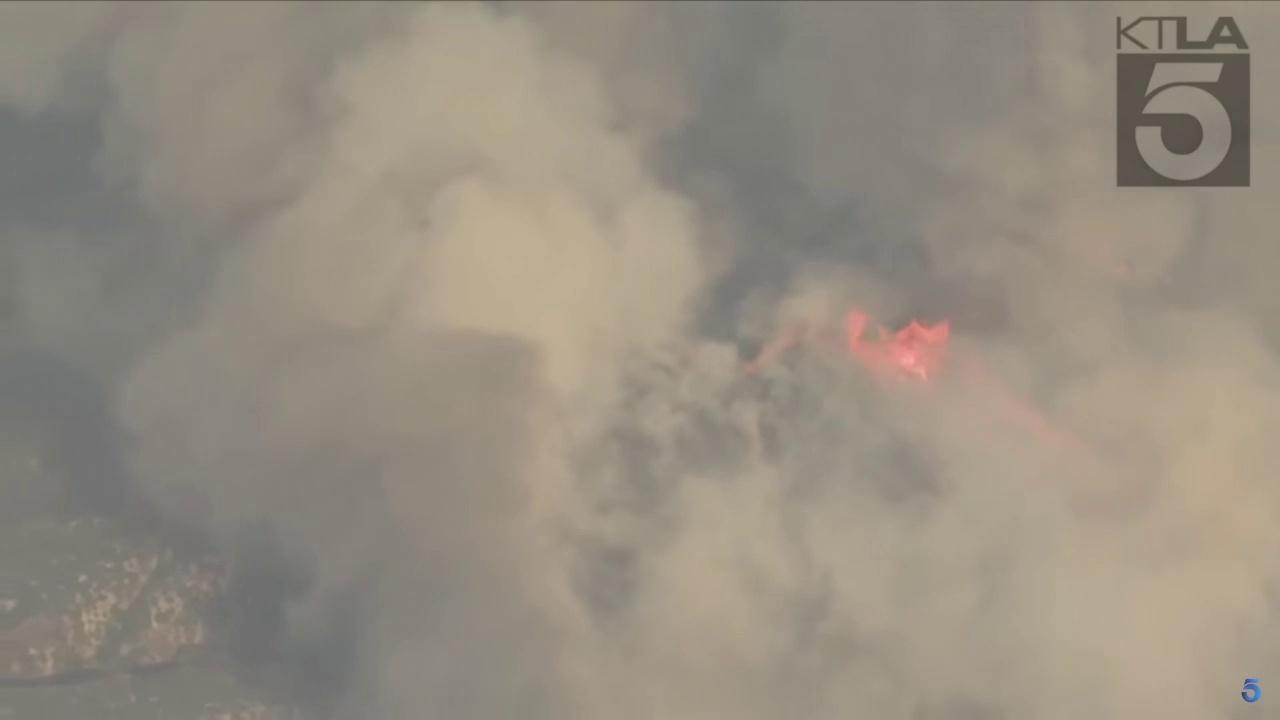fire: (846, 307, 950, 389)
smoke: (0, 0, 1280, 720)
